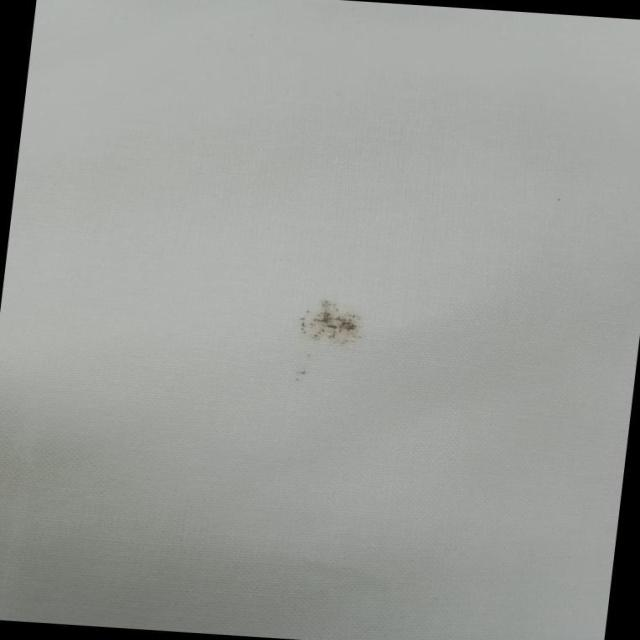stain: (281, 294, 371, 386)
